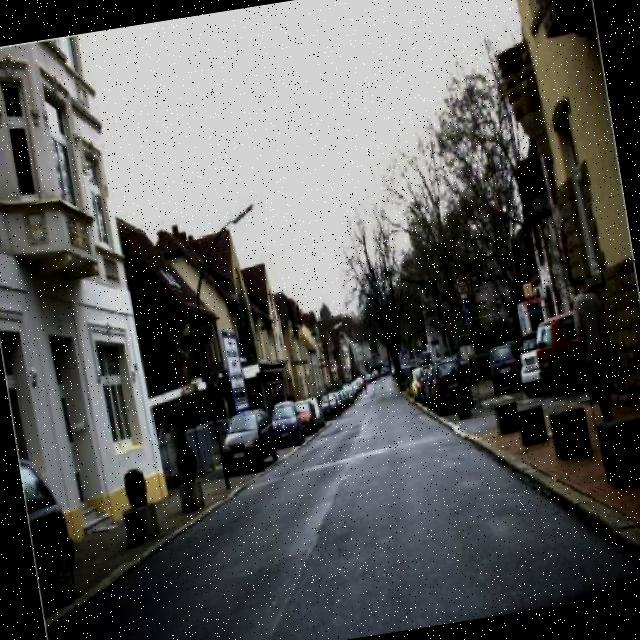Ograniczenie predkosci do 30: (452, 276, 472, 306)
